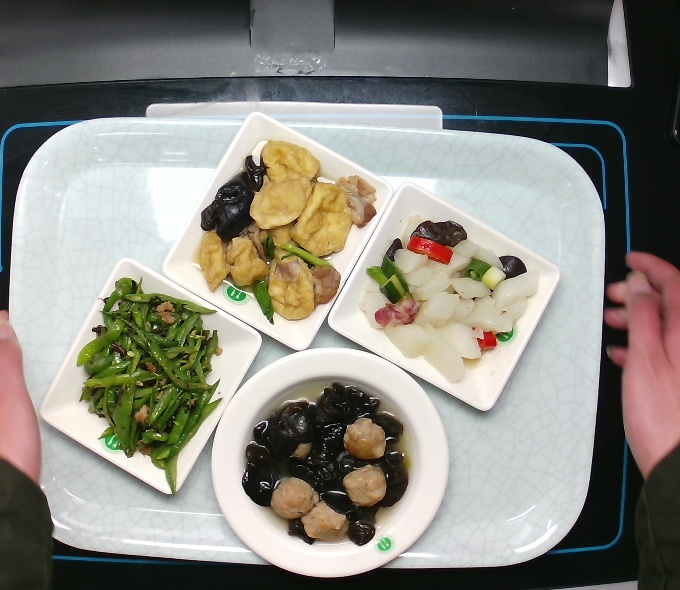wcq-MuErWanZi: (232, 372, 422, 558)
wcq-ShanYao: (346, 209, 548, 389)
wcq-SiJiDouChaoRou: (73, 273, 228, 502)
wcq-YouPaoRouPian: (181, 134, 380, 328)
